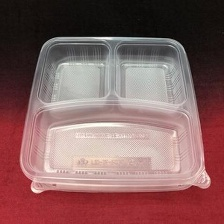plastic_box: (14, 27, 217, 201)
